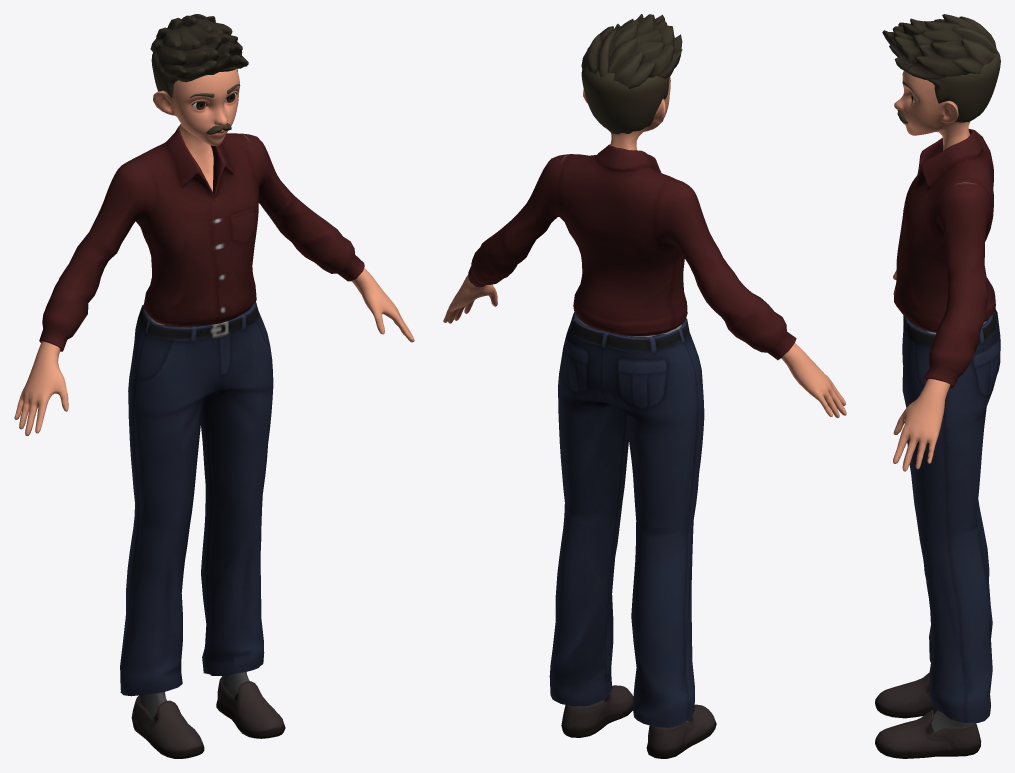
The model's file is Hussein_Mesh.obj.
The picture shows the model from 3 angles, left to right: view 1: azimuth 30°, elevation 25°; view 2: azimuth 150°, elevation 25°; view 3: azimuth 270°, elevation 25°; orthographic projection.
Visible parts, largest first — view 1: Hussein_Mesh_0; view 2: Hussein_Mesh_0; view 3: Hussein_Mesh_0.
Boxes of the visible parts, <box> form: Hussein_Mesh_0: <box>14,14,414,758</box>; Hussein_Mesh_0: <box>443,14,846,758</box>; Hussein_Mesh_0: <box>875,14,1000,758</box>.
Bounding box in the file's own units: 1.06 × 1.84 × 0.2942.
Materials: 1 (1 with a texture image).
